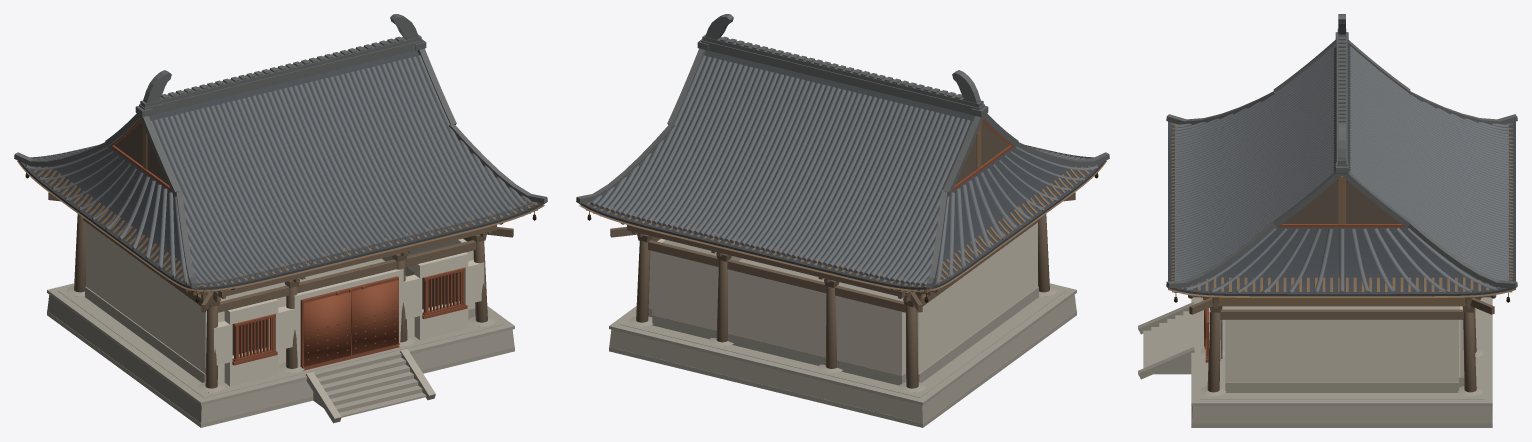
Rendered from tang-01-nanchansi-dadian.glb.
3 views of the same model, side by side, from view 1: azimuth 30°, elevation 25°; view 2: azimuth 150°, elevation 25°; view 3: azimuth 270°, elevation 25° (orthographic). The views are drawn at different scales.
Visible parts, largest first — view 1: 屋面_筒瓦垄, 屋面_瓦基层, 台基_主体, 脊_正脊垂脊戗脊, 墙体_两山墙, 墙体_次间墙板, 门窗_板门扇, 台基_踏道, 台基_台面, 门窗_直棂窗, 额枋_阑额, 柱网_檐柱x8 (+11 smaller); view 2: 屋面_筒瓦垄, 屋面_瓦基层, 墙体_后檐墙, 台基_主体, 脊_正脊垂脊戗脊, 墙体_两山墙, 台基_台面, 柱网_檐柱x8, 额枋_阑额, 墙体_后檐下碱, 椽望_檐椽飞椽, 斗拱_罗汉枋 (+6 smaller); view 3: 屋面_筒瓦垄, 墙体_两山墙, 屋面_瓦基层, 台基_主体, 脊_正脊垂脊戗脊, 台基_台面, 台基_踏道, 额枋_阑额, 梁架_四椽栿与平梁, 墙体_两山下碱, 椽望_檐椽飞椽, 屋面_山花板 (+7 smaller).
Boxes of the visible parts, x1,y1,x2,y2 form: 屋面_筒瓦垄: (26,55,531,284); 屋面_瓦基层: (18,50,544,289); 台基_主体: (47,283,514,427); 脊_正脊垂脊戗脊: (14,34,547,288); 墙体_两山墙: (86,222,475,373); 墙体_次间墙板: (213,252,484,386); 门窗_板门扇: (303,280,398,366); 台基_踏道: (305,349,435,423); 台基_台面: (58,258,503,397); 门窗_直棂窗: (232,267,467,365); 额枋_阑额: (83,218,475,312); 柱网_檐柱x8: (74,214,487,388); 屋面_筒瓦垄: (592,55,1097,284); 屋面_瓦基层: (579,50,1105,289); 墙体_后檐墙: (652,251,905,375); 台基_主体: (609,283,1076,427); 脊_正脊垂脊戗脊: (576,34,1109,288); 墙体_两山墙: (648,222,1037,373); 台基_台面: (620,258,1065,397); 柱网_檐柱x8: (636,214,1049,388); 额枋_阑额: (648,218,1040,312); 墙体_后檐下碱: (652,315,906,385); 椽望_檐椽飞椽: (586,150,1095,293); 斗拱_罗汉枋: (627,225,903,297); 屋面_筒瓦垄: (1176,46,1507,292); 墙体_两山墙: (1225,319,1458,382); 屋面_瓦基层: (1168,46,1515,296); 台基_主体: (1191,297,1492,427); 脊_正脊垂脊戗脊: (1166,29,1517,288); 台基_台面: (1199,297,1484,399); 台基_踏道: (1138,302,1194,379); 额枋_阑额: (1220,309,1463,319); 梁架_四椽栿与平梁: (1217,176,1466,306); 墙体_两山下碱: (1225,382,1458,392); 椽望_檐椽飞椽: (1171,123,1512,292); 屋面_山花板: (1283,179,1400,223).
Size of the model in its own units: 10 by 7.84 by 9.45.
